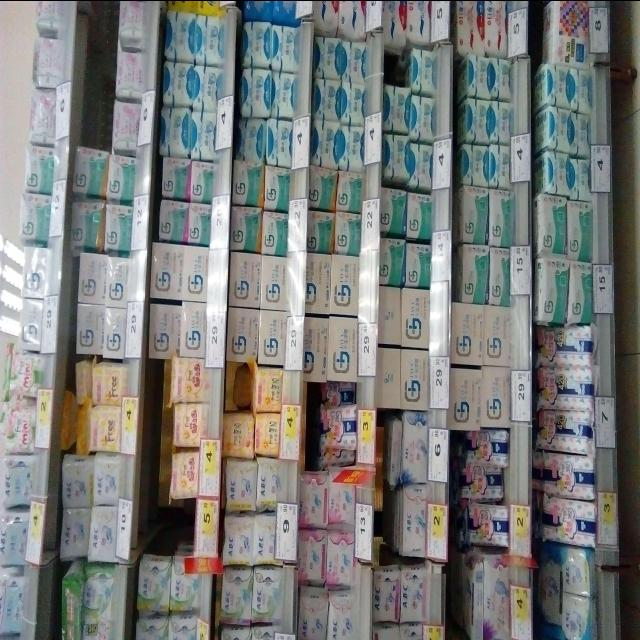empty_space: (81, 9, 109, 127), (148, 504, 193, 547)
